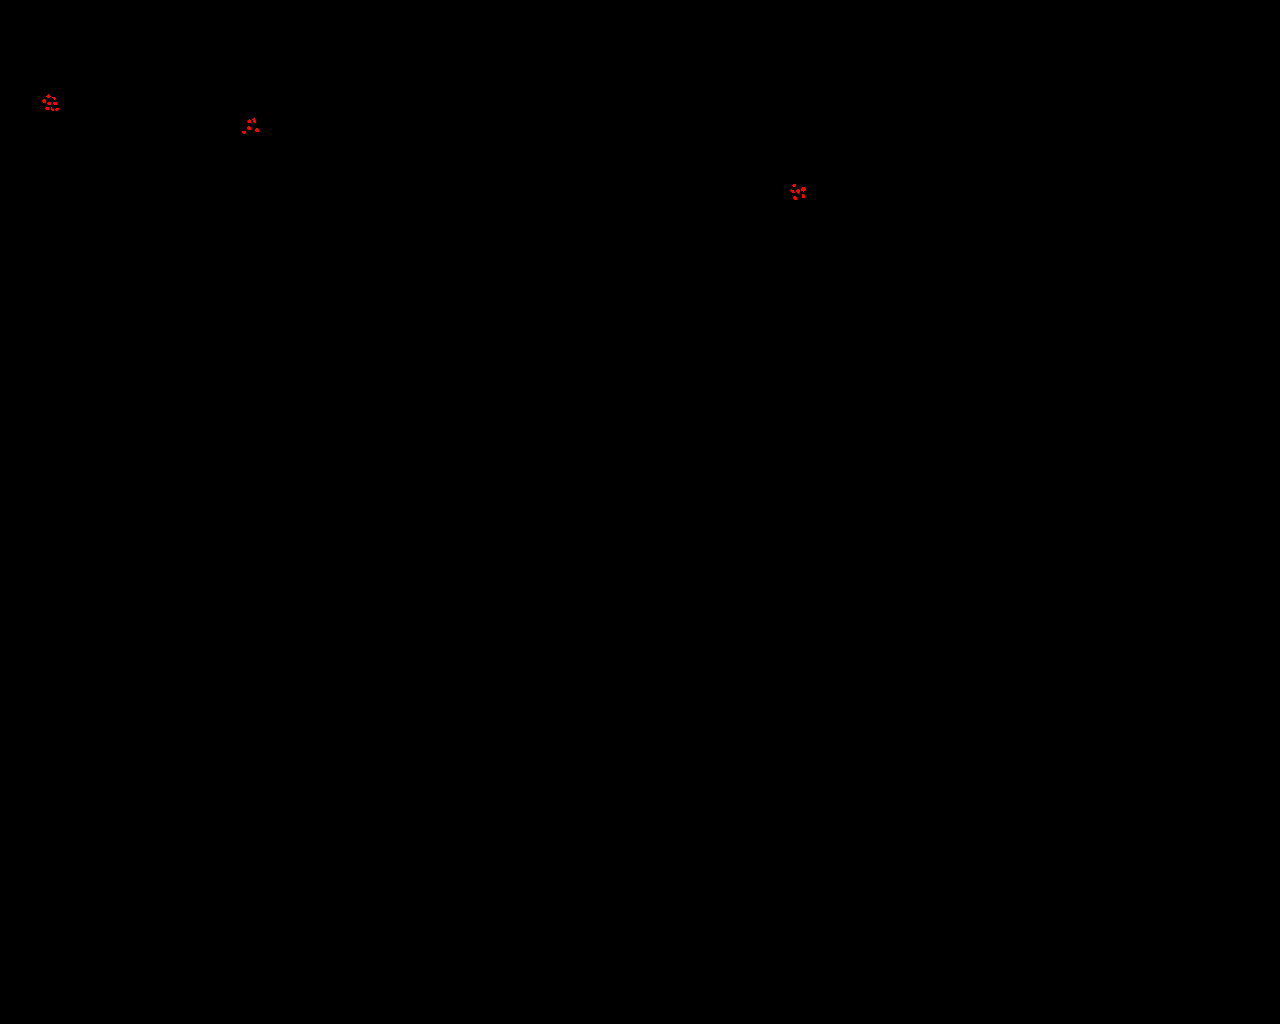Target: (46, 94, 51, 98), (252, 118, 256, 123), (801, 187, 806, 192), (790, 189, 795, 193), (796, 189, 800, 194), (42, 99, 46, 103), (247, 119, 251, 123), (255, 127, 259, 132), (52, 97, 56, 100), (45, 107, 49, 110), (51, 107, 54, 111), (247, 126, 251, 130), (792, 184, 796, 187), (793, 196, 797, 200), (55, 108, 59, 111), (242, 131, 246, 134), (47, 102, 51, 104), (53, 102, 57, 104), (802, 194, 805, 197)
